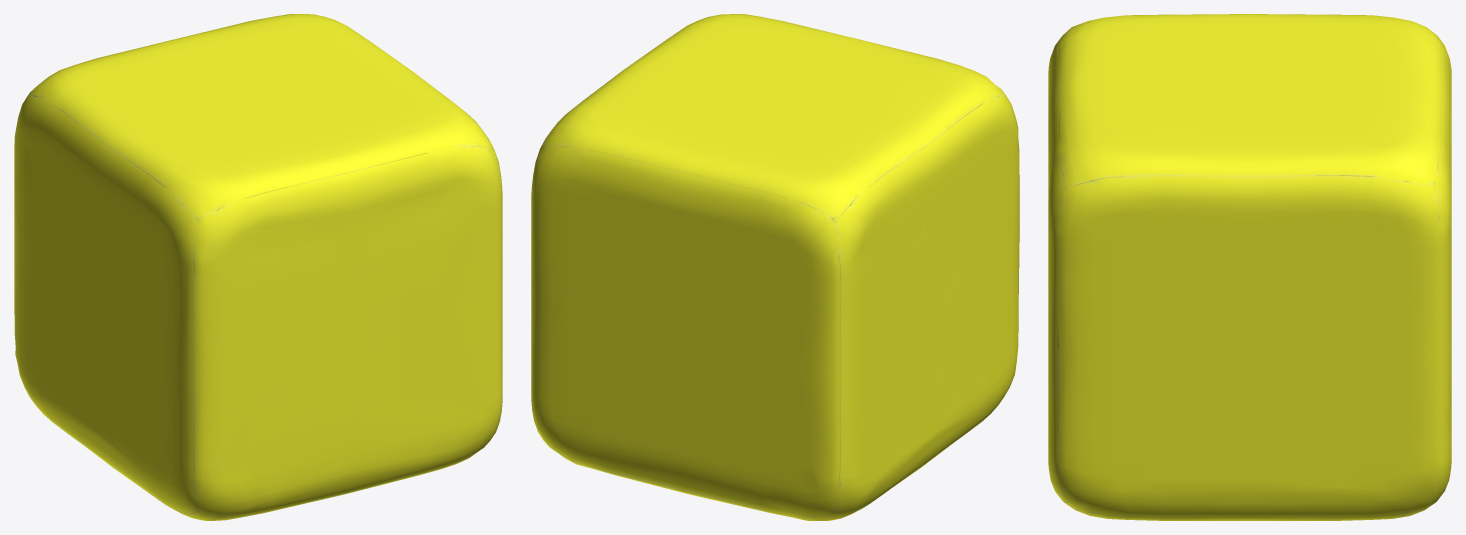
The model's file is soft_block_yellow.glb.
3 views of the same model, side by side, from view 1: azimuth 30°, elevation 25°; view 2: azimuth 150°, elevation 25°; view 3: azimuth 270°, elevation 25° (orthographic). The views are drawn at different scales.
Size of what is drawn, in the model's own units: 0.9872 by 1 by 1.
Materials: 1 (1 with a texture image).
